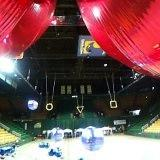Purple_Balloon: (81, 125, 105, 152), (51, 127, 64, 142), (28, 99, 38, 111)
Yellow_Circle_GShape: (45, 102, 54, 111)
Yellow_Square_GShape: (109, 100, 118, 110)
Yellow_Triangle_Gshape: (76, 105, 84, 113)
